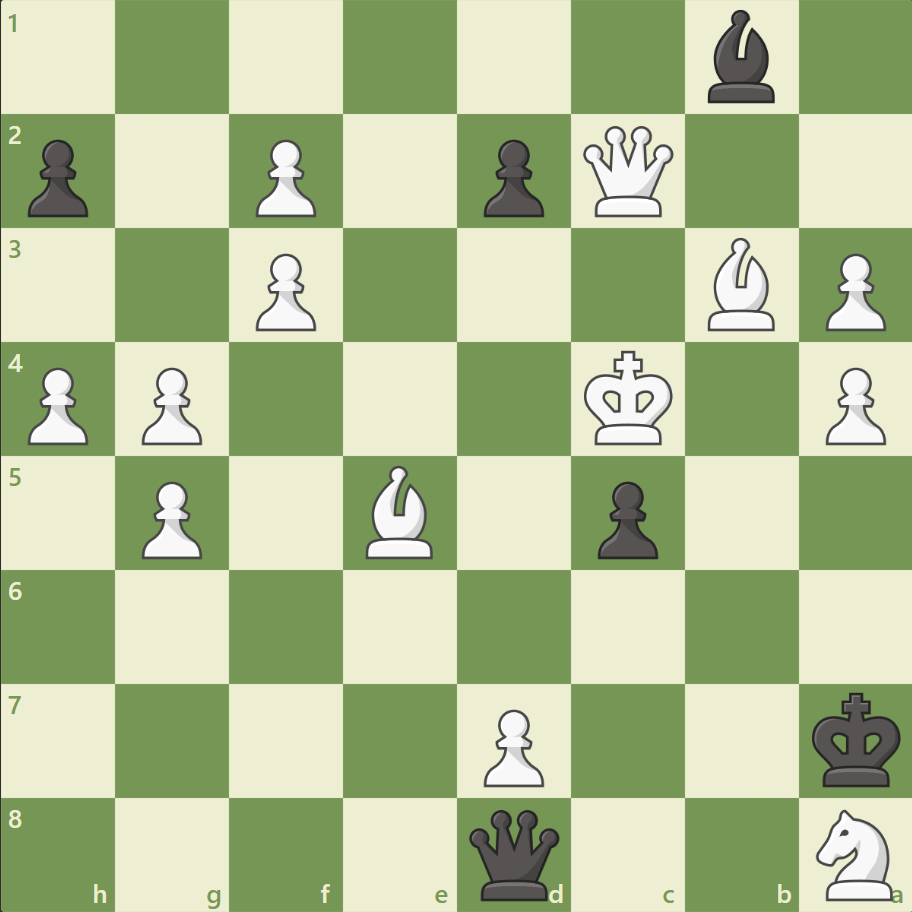B: (358, 460, 442, 563), (698, 233, 782, 336)
K: (579, 344, 679, 452)
N: (806, 802, 903, 904)
P: (474, 700, 549, 791), (133, 473, 208, 564), (133, 359, 208, 450), (20, 359, 95, 450), (247, 246, 322, 337), (247, 132, 322, 223), (815, 359, 889, 450), (815, 246, 889, 337)
Q: (578, 122, 677, 222)
b: (698, 6, 782, 109)
k: (806, 685, 906, 793)
p: (474, 132, 549, 223), (20, 132, 95, 223), (588, 473, 662, 564)
q: (464, 804, 563, 903)
